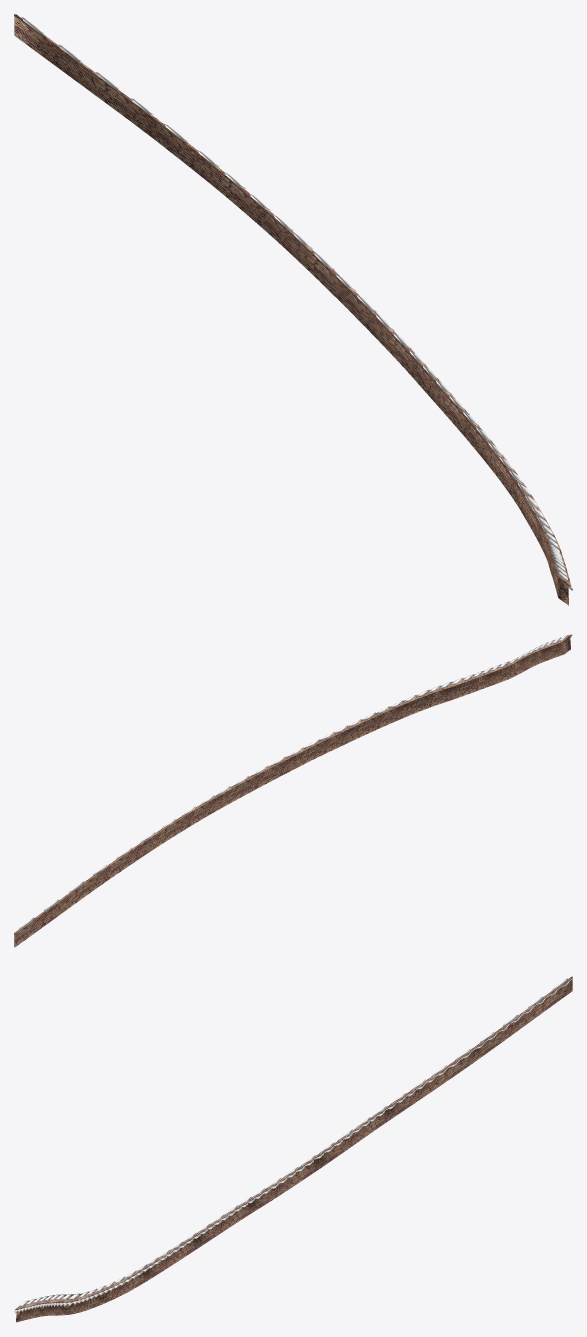
File: monestery_wall_a.glb
3 views of the same model, one above another, from view 1: azimuth 30°, elevation 25°; view 2: azimuth 150°, elevation 25°; view 3: azimuth 330°, elevation 25° (orthographic). The views are drawn at different scales.
Parts seen in each view (by area): view 1: brick_wall_06.jpg__, city_ground.jpg__; view 2: brick_wall_06.jpg__, city_ground.jpg__; view 3: brick_wall_06.jpg__, stktex_generic_WoodA.png__, city_ground.jpg__.
Part boxes in pixels (x1,y1,x2,y2): brick_wall_06.jpg__: (14,14,571,605); city_ground.jpg__: (21,17,568,581); brick_wall_06.jpg__: (14,634,571,947); city_ground.jpg__: (19,635,567,929); brick_wall_06.jpg__: (15,976,572,1322); stktex_generic_WoodA.png__: (14,978,572,1313); city_ground.jpg__: (19,978,567,1306).
Size of the model in its own units: 15.81 by 6.65 by 133.
Materials: 3 (1 with a texture image).
